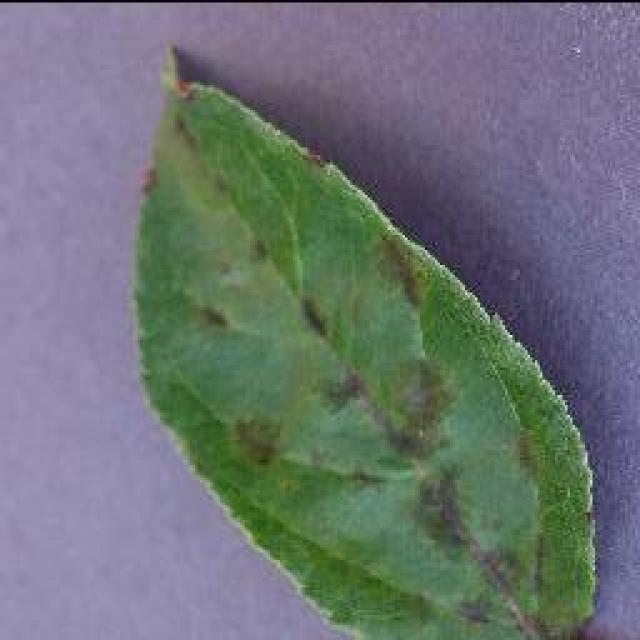apple scab disease: (128, 40, 602, 638)
